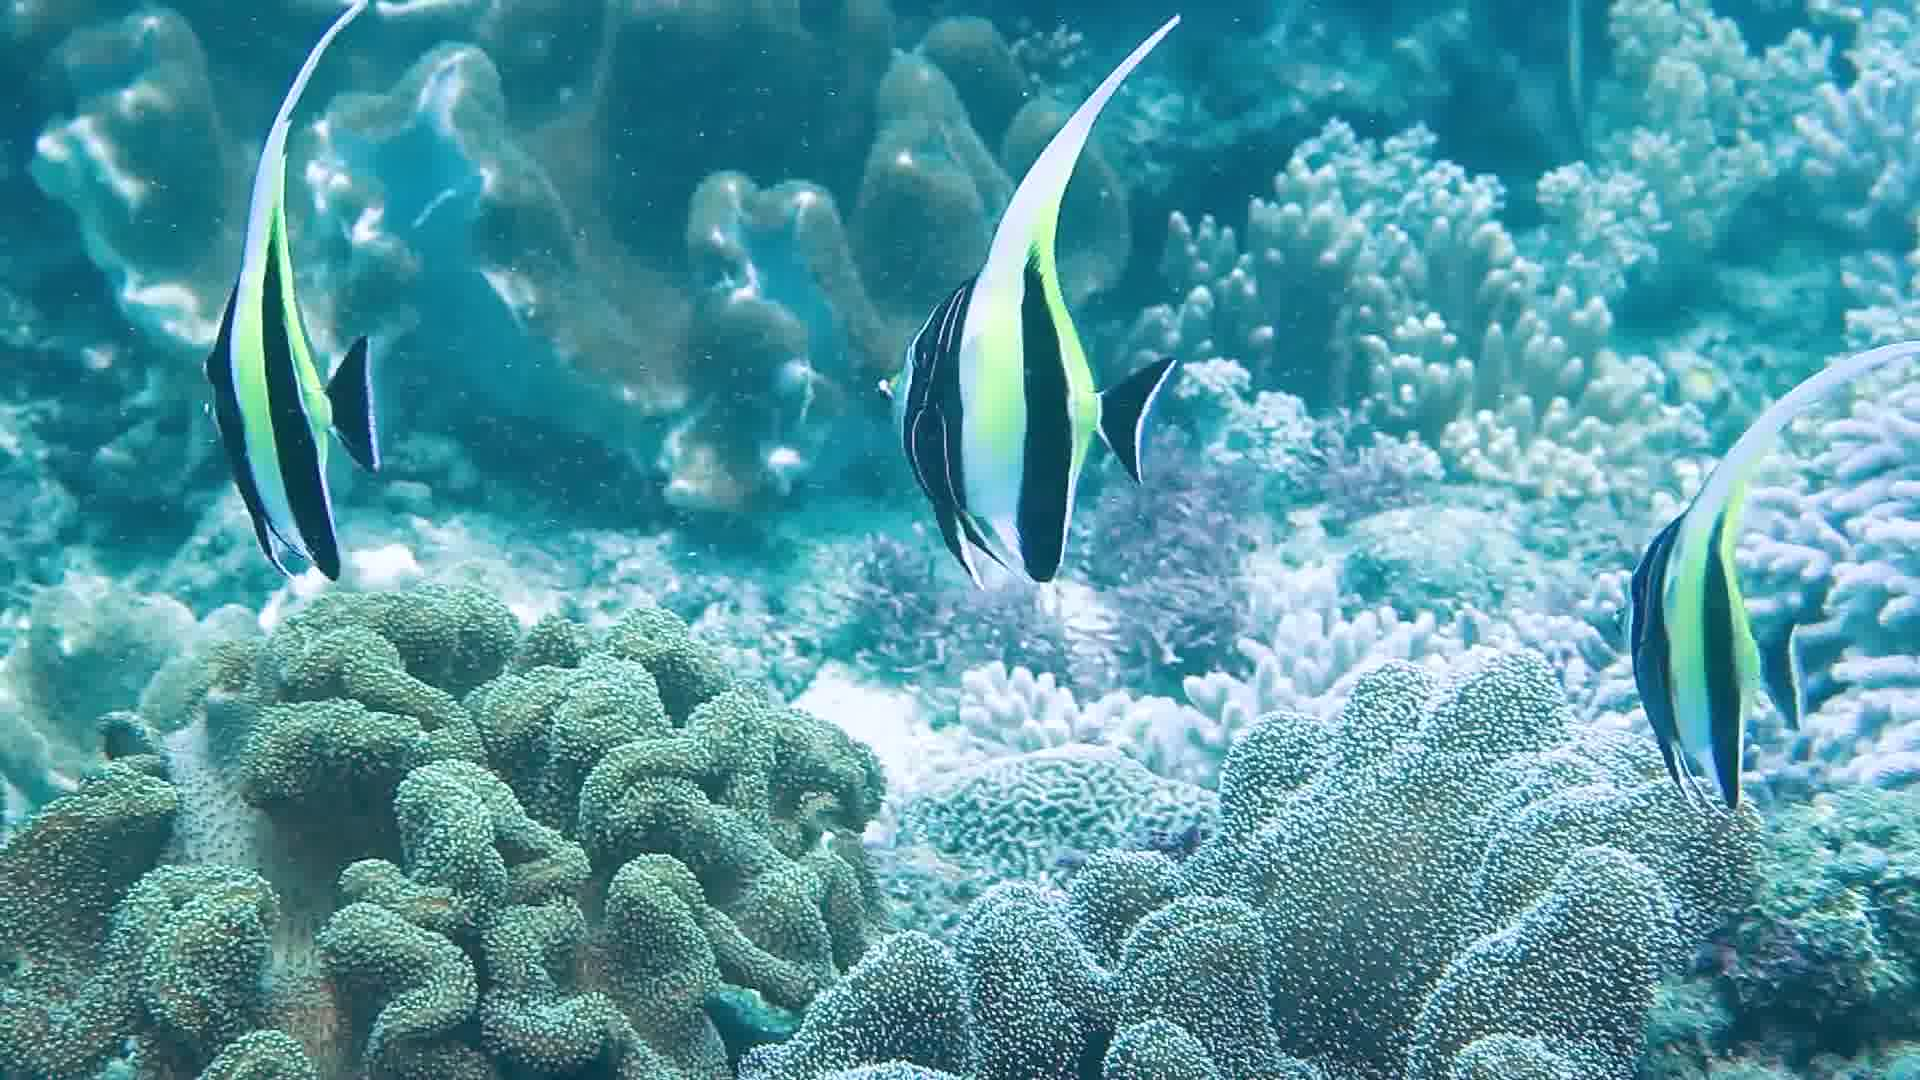Zanclus cornutus: (880, 156, 1180, 593), (164, 190, 404, 589), (1610, 425, 1836, 814)
